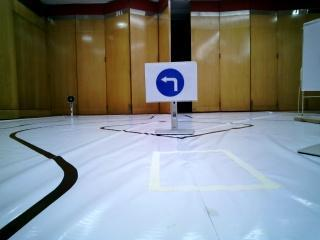left: (148, 65, 192, 101)
